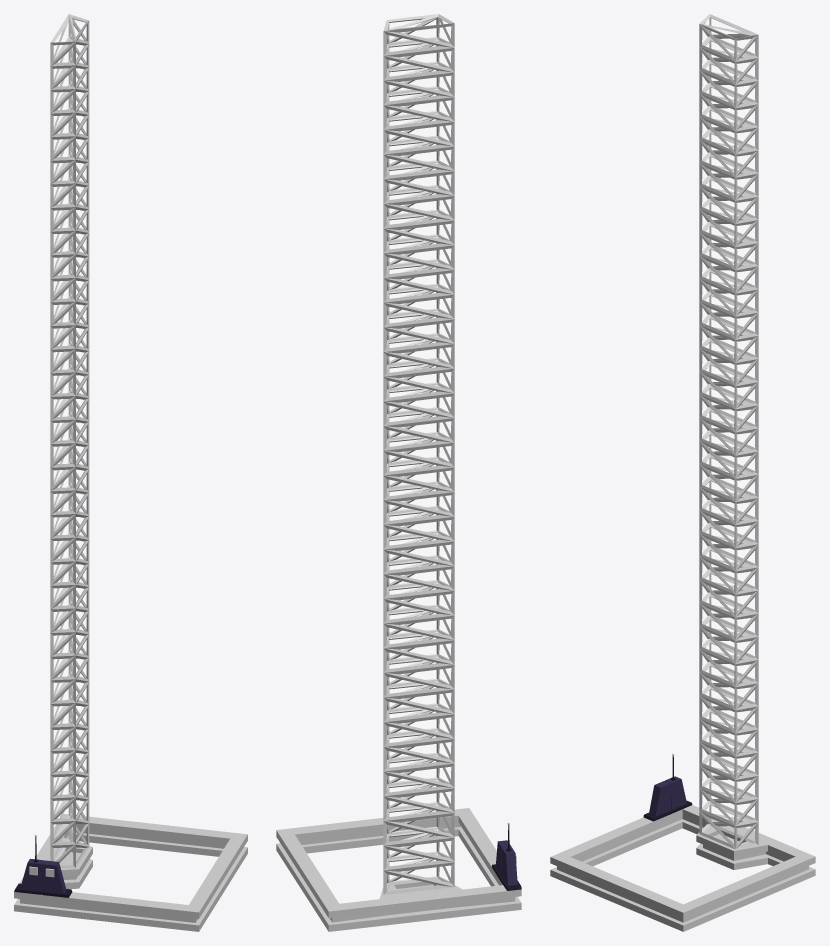
File: Elevator.fbx
3 renders of one model, left to right at view 1: azimuth 30°, elevation 25°; view 2: azimuth 150°, elevation 25°; view 3: azimuth 270°, elevation 25°, orthographic. The views are drawn at different scales.
Visible parts, largest first — view 1: Cube.007, Cube.018, Cube.021; view 2: Cube.007, Cube.018, Cube.021; view 3: Cube.007, Cube.018, Cube.021.
Part boxes in pixels (<box>): Cube.007: <box>50,14,89,868</box>; Cube.018: <box>14,814,247,931</box>; Cube.021: <box>14,834,72,897</box>; Cube.007: <box>383,14,454,894</box>; Cube.018: <box>276,808,521,931</box>; Cube.021: <box>491,822,521,890</box>; Cube.007: <box>699,14,758,849</box>; Cube.018: <box>550,805,815,931</box>; Cube.021: <box>643,753,692,821</box>.
Bounding box in the file's own units: 324 × 1119 × 324.
